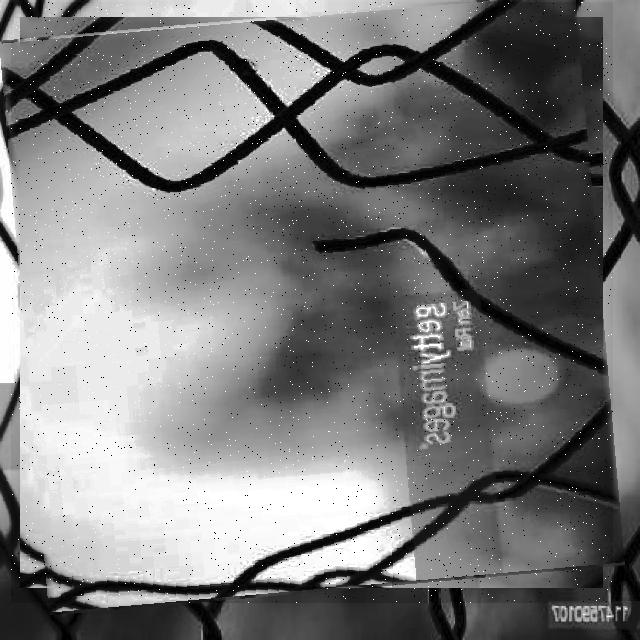anomaly-fence: (11, 2, 613, 603)
